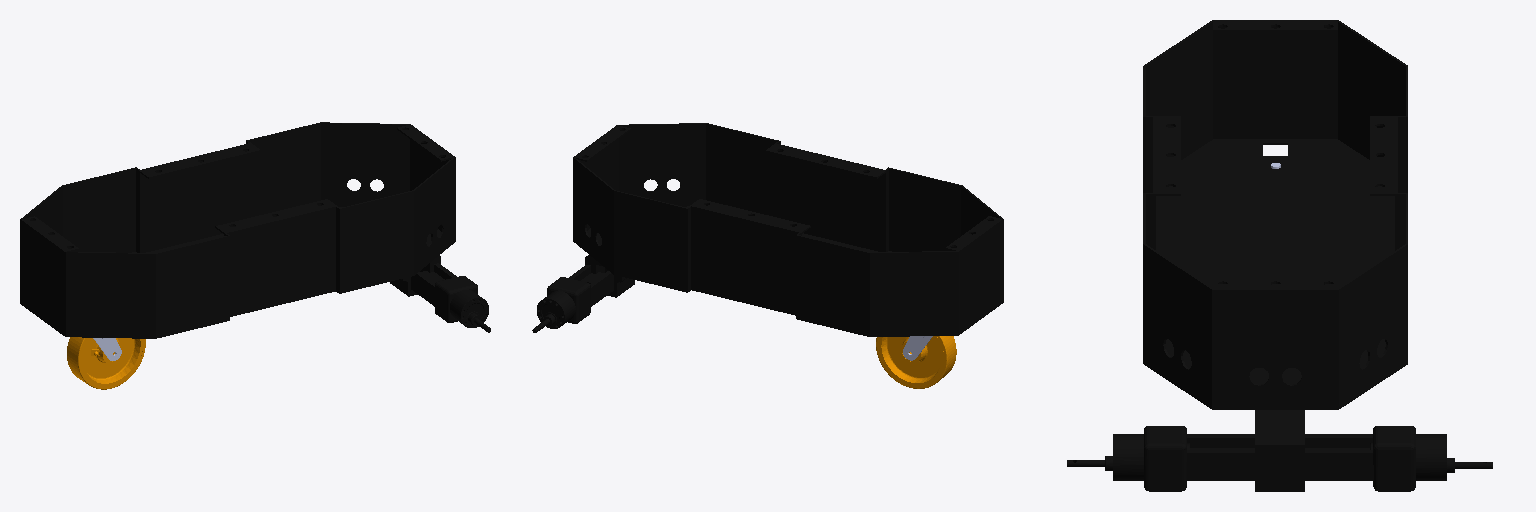
URDF robot description (try3):
<?xml version="1.0" encoding="utf-8"?>
<!-- This URDF was automatically created by SolidWorks to URDF Exporter! Originally created by [author] ([email redacted]) 
     Commit Version: 1.5.1-0-g916b5db  Build Version: 1.5.7152.31018
     For more information, please see http://wiki.ros.org/sw_urdf_exporter -->
<robot
  name="try3">
  <link
    name="base_link">
    <inertial>
      <origin
        xyz="-0.0945324585097357 -0.00220309309244843 0.00937597470852675"
        rpy="0 0 0" />
      <mass
        value="0.718252159308914" />
      <inertia
        ixx="0.00358656893202139"
        ixy="-1.78110048615162E-05"
        ixz="2.55027522469089E-05"
        iyy="0.0116064949522666"
        iyz="2.31607184693607E-05"
        izz="0.0138736189499447" />
    </inertial>
    <visual>
      <origin
        xyz="0 0 0"
        rpy="0 0 0" />
      <geometry>
        <mesh
          filename="package://try3/meshes/base_link.STL" />
      </geometry>
      <material
        name="">
        <color
          rgba="0.0980392156862745 0.0980392156862745 0.0980392156862745 1" />
      </material>
    </visual>
    <collision>
      <origin
        xyz="0 0 0"
        rpy="0 0 0" />
      <geometry>
        <mesh
          filename="package://try3/meshes/base_link.STL" />
      </geometry>
    </collision>
  </link>
  <link
    name="rl">
    <inertial>
      <origin
        xyz="4.97555112111137E-08 0.0305177238286873 2.61930782619046E-09"
        rpy="0 0 0" />
      <mass
        value="0.202335424276502" />
      <inertia
        ixx="5.65468093482746E-05"
        ixy="-4.01298029738633E-12"
        ixz="-4.06258959961244E-12"
        iyy="6.77001605202026E-05"
        iyz="7.57854402863261E-11"
        izz="5.65468857678479E-05" />
    </inertial>
    <visual>
      <origin
        xyz="0 0 0"
        rpy="0 0 0" />
      <geometry>
        <mesh
          filename="package://try3/meshes/rl.STL" />
      </geometry>
      <material
        name="">
        <color
          rgba="0.792156862745098 0.819607843137255 0.933333333333333 1" />
      </material>
    </visual>
    <collision>
      <origin
        xyz="0 0 0"
        rpy="0 0 0" />
      <geometry>
        <mesh
          filename="package://try3/meshes/rl.STL" />
      </geometry>
    </collision>
  </link>
  <joint
    name="rl"
    type="continuous">
    <origin
      xyz="0.054732 0.1316 -0.053332"
      rpy="0 0 0" />
    <parent
      link="base_link" />
    <child
      link="rl" />
    <axis
      xyz="0 1 0" />
  </joint>
  <link
    name="ll">
    <inertial>
      <origin
        xyz="4.97648228181546E-08 0.0305177238271352 2.61787375110956E-09"
        rpy="0 0 0" />
      <mass
        value="0.20233542424296" />
      <inertia
        ixx="5.65468093378152E-05"
        ixy="-4.01027565404916E-12"
        ixz="-4.06369834612851E-12"
        iyy="6.7700160463655E-05"
        iyz="7.57850665273654E-11"
        izz="5.65468857215737E-05" />
    </inertial>
    <visual>
      <origin
        xyz="0 0 0"
        rpy="0 0 0" />
      <geometry>
        <mesh
          filename="package://try3/meshes/ll.STL" />
      </geometry>
      <material
        name="">
        <color
          rgba="0.792156862745098 0.819607843137255 0.933333333333333 1" />
      </material>
    </visual>
    <collision>
      <origin
        xyz="0 0 0"
        rpy="0 0 0" />
      <geometry>
        <mesh
          filename="package://try3/meshes/ll.STL" />
      </geometry>
    </collision>
  </link>
  <joint
    name="ll"
    type="continuous">
    <origin
      xyz="0.052204 -0.1316 -0.052829"
      rpy="-3.1416 0 0" />
    <parent
      link="base_link" />
    <child
      link="ll" />
    <axis
      xyz="0 1 0" />
  </joint>
  <link
    name="cbl">
    <inertial>
      <origin
        xyz="-0.00854194798593453 -0.0134353290458102 1.2806164462198E-09"
        rpy="0 0 0" />
      <mass
        value="0.0116154131903353" />
      <inertia
        ixx="6.27246853536761E-06"
        ixy="-2.13035605643917E-06"
        ixz="7.45236394880864E-13"
        iyy="4.3694982512207E-06"
        iyz="4.57377593698953E-13"
        izz="6.09747163123682E-06" />
    </inertial>
    <visual>
      <origin
        xyz="0 0 0"
        rpy="0 0 0" />
      <geometry>
        <mesh
          filename="package://try3/meshes/cbl.STL" />
      </geometry>
      <material
        name="">
        <color
          rgba="0.792156862745098 0.819607843137255 0.933333333333333 1" />
      </material>
    </visual>
    <collision>
      <origin
        xyz="0 0 0"
        rpy="0 0 0" />
      <geometry>
        <mesh
          filename="package://try3/meshes/cbl.STL" />
      </geometry>
    </collision>
  </link>
  <joint
    name="cbl"
    type="continuous">
    <origin
      xyz="-0.37163 -0.0034199 0"
      rpy="1.5708 0 -3.0871" />
    <parent
      link="base_link" />
    <child
      link="cbl" />
    <axis
      xyz="0 1 0" />
  </joint>
  <link
    name="cw">
    <inertial>
      <origin
        xyz="-4.96626860828388E-05 -1.83075776760688E-11 0.00101538174966936"
        rpy="0 0 0" />
      <mass
        value="0.0842836792485099" />
      <inertia
        ixx="5.33344905088022E-05"
        ixy="-3.57561391039521E-14"
        ixz="-2.26120934236339E-08"
        iyy="5.34086607388328E-05"
        iyz="-3.15253245994439E-15"
        izz="0.000100470561688802" />
    </inertial>
    <visual>
      <origin
        xyz="0 0 0"
        rpy="0 0 0" />
      <geometry>
        <mesh
          filename="package://try3/meshes/cw.STL" />
      </geometry>
      <material
        name="">
        <color
          rgba="0.909803921568627 0.588235294117647 0.0313725490196078 1" />
      </material>
    </visual>
    <collision>
      <origin
        xyz="0 0 0"
        rpy="0 0 0" />
      <geometry>
        <mesh
          filename="package://try3/meshes/cw.STL" />
      </geometry>
    </collision>
  </link>
  <joint
    name="cw"
    type="continuous">
    <origin
      xyz="-0.0291 -0.049732 0"
      rpy="0 0 -3.0941" />
    <parent
      link="cbl" />
    <child
      link="cw" />
    <axis
      xyz="0 0 1" />
  </joint>
<gazebo>
    <plugin filename="libgazebo_ros_diff_drive.so" name="differential_drive_controller">
      <alwaysOn>true</alwaysOn>
      <updateRate>20</updateRate>
      <leftJoint>rl</leftJoint>
      <rightJoint>ll</rightJoint>
      <wheelSeparation>0.4</wheelSeparation>
      <wheelDiameter>0.2</wheelDiameter>
      <torque>0.1</torque>
      <commandTopic>cmd_vel</commandTopic>
      <odometryTopic>odom</odometryTopic>
      <odometryFrame>oodm</odometryFrame>
      <robotBaseFrame>base_link</robotBaseFrame>
    </plugin>
  </gazebo>
</robot>

--- Render facts (derived) ---
Views: 3 orthographic renders of the robot side by side, from view 1: azimuth 30°, elevation 25°; view 2: azimuth 150°, elevation 25°; view 3: azimuth 270°, elevation 25°.
Model try3 with 5 links and 4 joints (4 continuous), rooted at base_link, posed every joint at zero.
Visible links, largest first — view 1: base_link, cw; view 2: base_link, cw; view 3: base_link.
Link boxes in pixels (left/top/right/bottom): base_link: left=20, top=122, right=490, bottom=338; cw: left=67, top=337, right=145, bottom=389; base_link: left=532, top=123, right=1003, bottom=336; cw: left=876, top=336, right=956, bottom=388; base_link: left=1067, top=20, right=1492, bottom=491.
Size in the robot's own frame: 0.5 by 0.335 by 0.203 metres.
3 mesh visuals loaded from 5 distinct referenced files (3 binary STL); not drawn: 2 (reference not matched to a file when rendering).